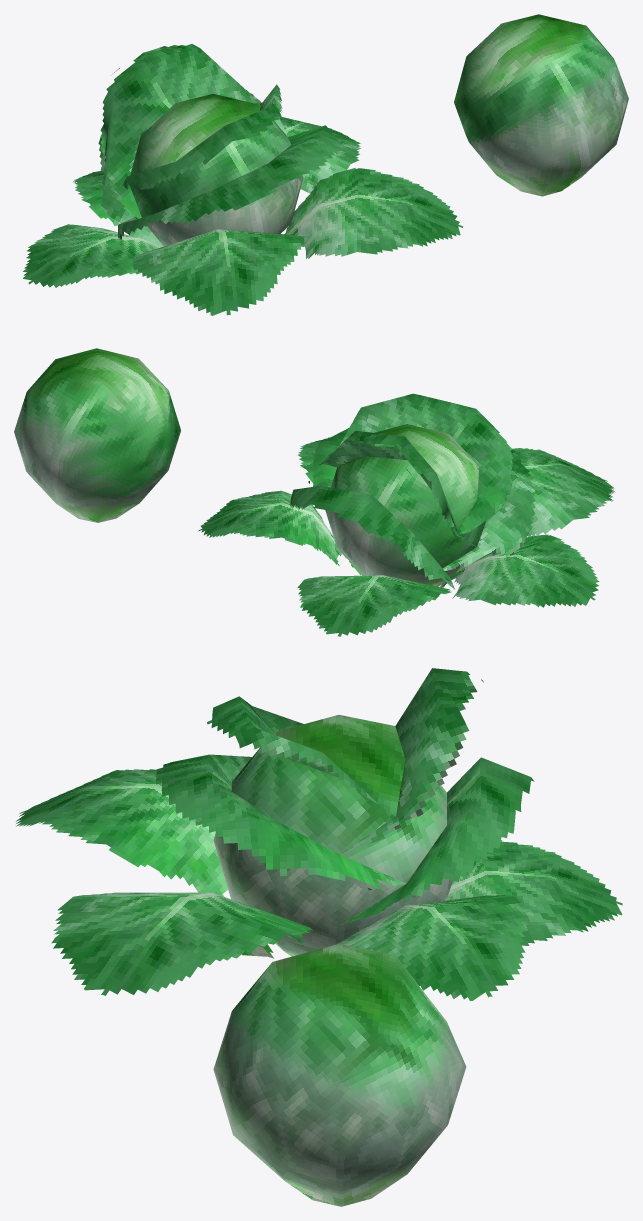
Rendered from cabbage.glb.
The picture shows the model from 3 angles, top to bottom: view 1: azimuth 30°, elevation 25°; view 2: azimuth 150°, elevation 25°; view 3: azimuth 270°, elevation 25°; orthographic projection. The views are drawn at different scales.
Visible parts, largest first — view 1: cabbage, cabbage.001; view 2: cabbage, cabbage.001; view 3: cabbage, cabbage.001.
Part boxes in pixels (x1=…): cabbage: x1=23, y1=44, x2=463, y2=315; cabbage.001: x1=454, y1=14, x2=628, y2=196; cabbage: x1=198, y1=393, x2=615, y2=636; cabbage.001: x1=14, y1=348, x2=180, y2=522; cabbage: x1=16, y1=668, x2=622, y2=1000; cabbage.001: x1=213, y1=944, x2=466, y2=1206.
Bounding box in the file's own units: 7.81 × 2.43 × 4.86.
Materials: 1 (1 with a texture image).
